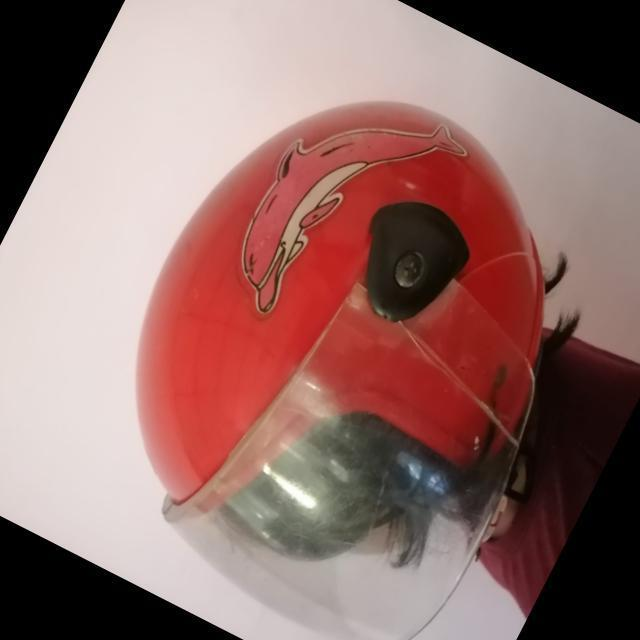with_helmet: (133, 93, 554, 603)
